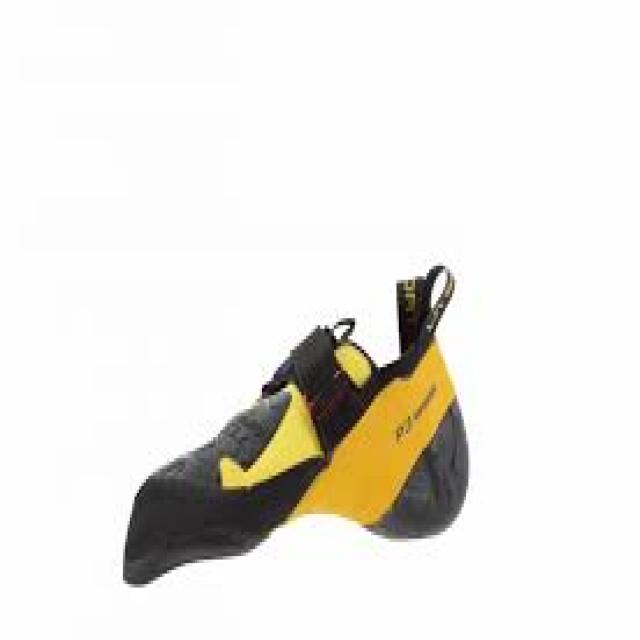climbing-shoes: (122, 263, 468, 589)
